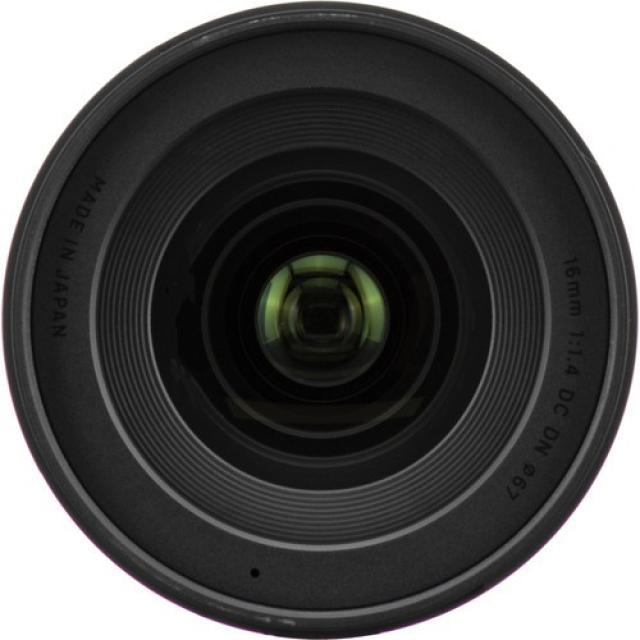hidden camera: (177, 169, 479, 475)
